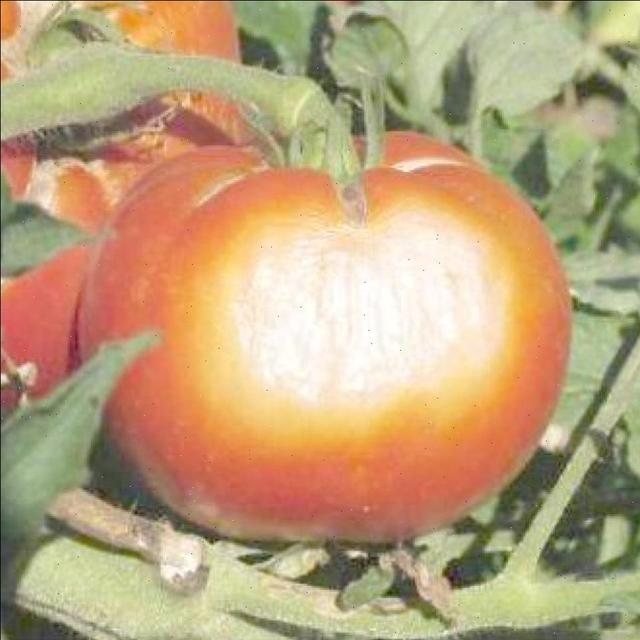Sunscald Fruit: (140, 114, 354, 288)
